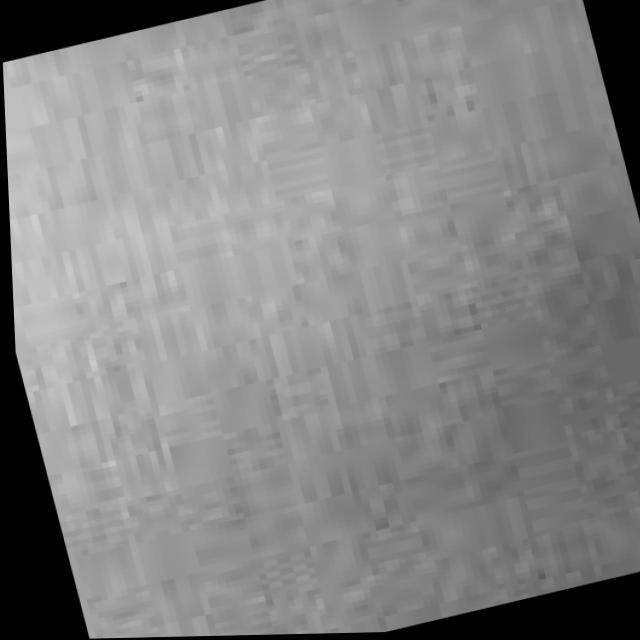metal-plates: (3, 1, 640, 640)
